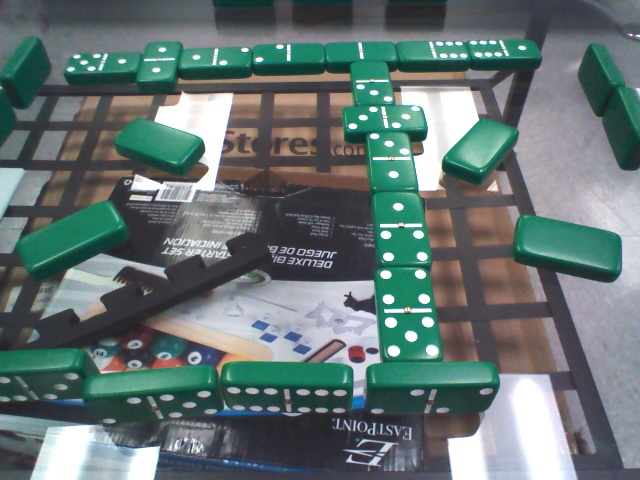A: (510, 211, 628, 285), (15, 201, 131, 275), (443, 117, 522, 187), (113, 117, 206, 171)
B: (373, 268, 442, 361), (371, 190, 435, 265), (367, 131, 417, 189), (345, 105, 427, 138), (180, 42, 253, 78), (346, 58, 397, 106), (396, 41, 473, 69), (136, 40, 179, 83), (326, 41, 399, 65), (255, 44, 327, 68), (470, 40, 541, 64), (64, 54, 138, 77)
C: (3, 33, 54, 107), (1, 84, 17, 145)
D: (589, 86, 640, 167), (573, 40, 626, 110)
E: (88, 373, 229, 430), (367, 362, 497, 419), (222, 365, 353, 414), (1, 346, 92, 414)
